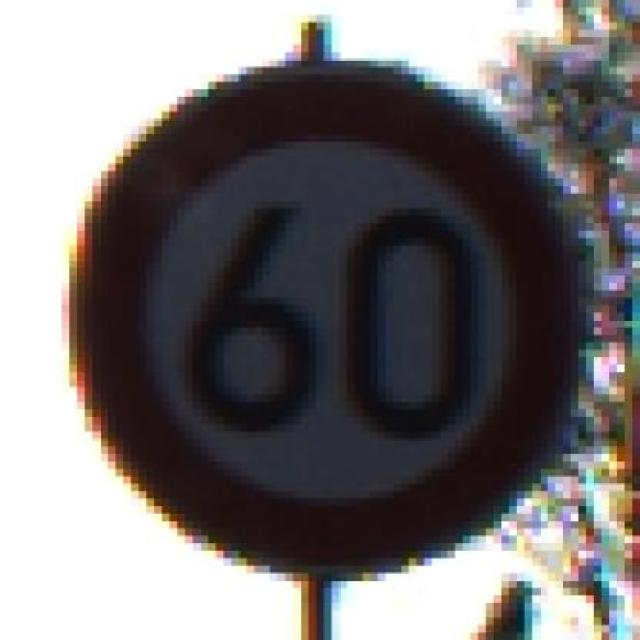forb_speed_over_60: (77, 63, 566, 572)
